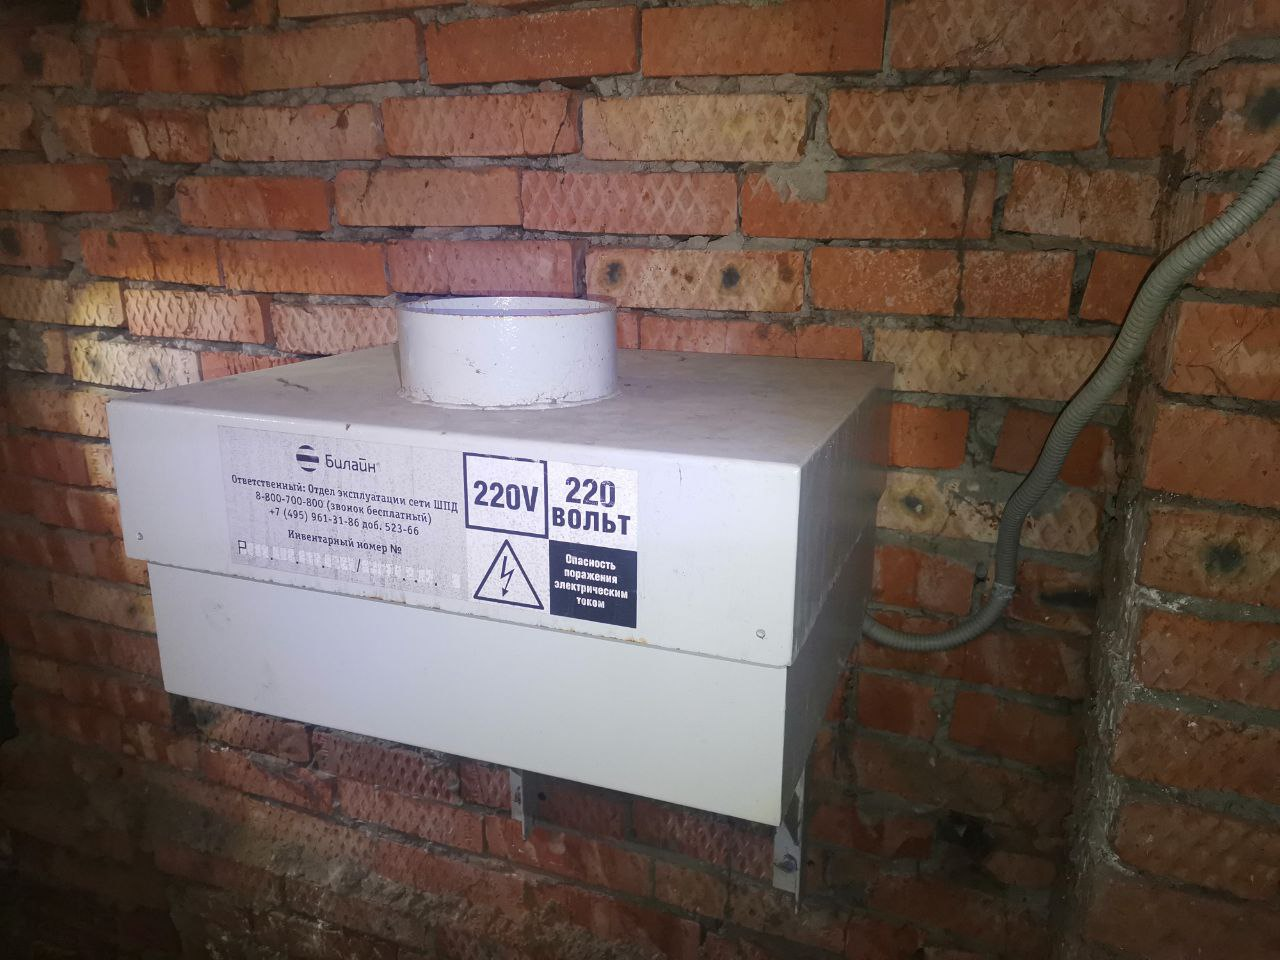shta-ps: (98, 290, 898, 838)
